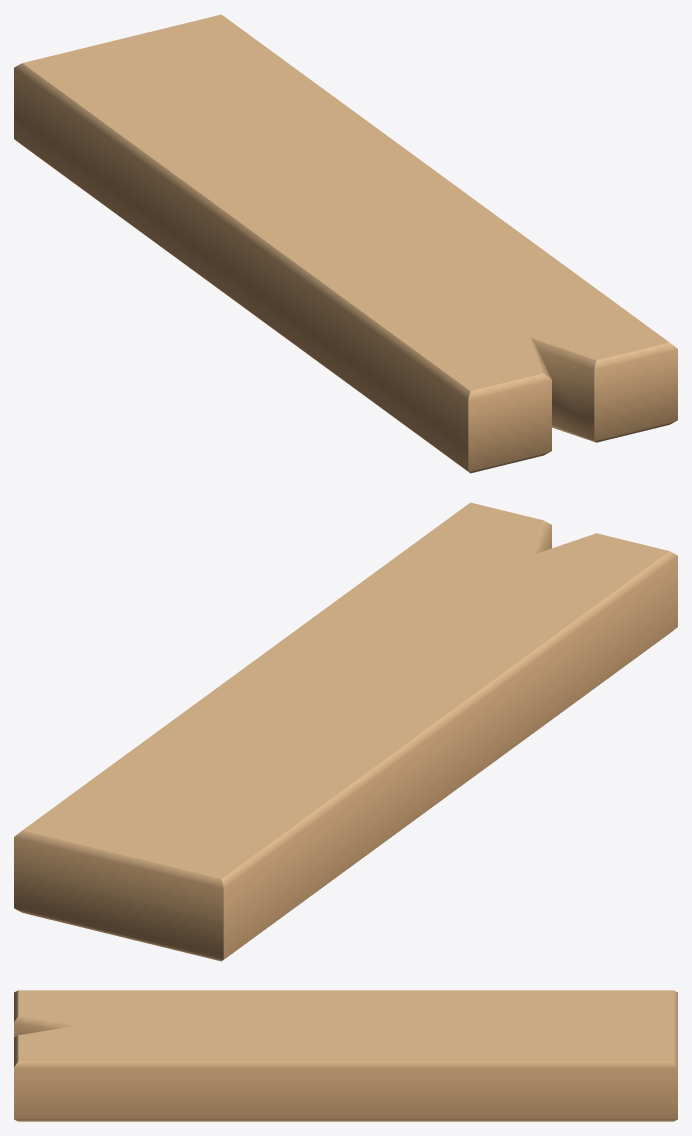
The model's file is Wood_Plank_B.gltf.
3 views of the same model, one above another, from view 1: azimuth 30°, elevation 25°; view 2: azimuth 150°, elevation 25°; view 3: azimuth 270°, elevation 25° (orthographic). The views are drawn at different scales.
Parts seen in each view (by area): view 1: Wood_Plank_B; view 2: Wood_Plank_B; view 3: Wood_Plank_B.
Boxes of the visible parts, x1,y1,x2,y2 form: Wood_Plank_B: (14, 14, 677, 473); Wood_Plank_B: (14, 502, 677, 961); Wood_Plank_B: (14, 990, 677, 1121).
Bounding box in the file's own units: 0.4 × 0.15 × 1.5.
Materials: 1 (1 with a texture image).
